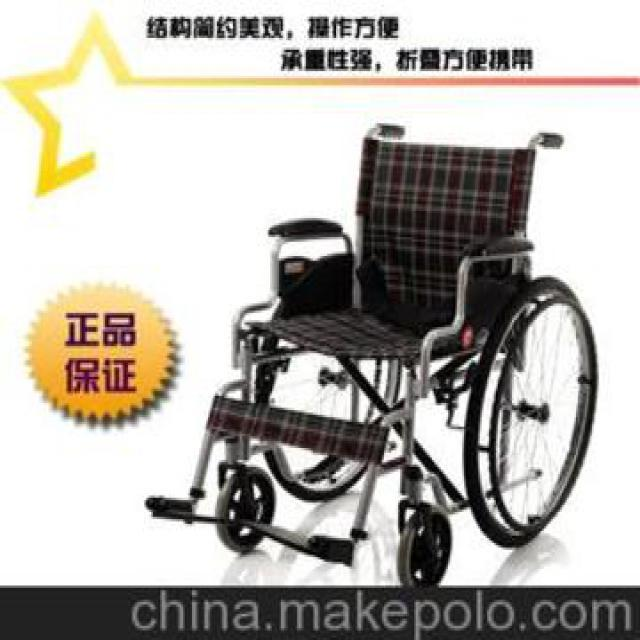wheelchair: (140, 116, 602, 581)
